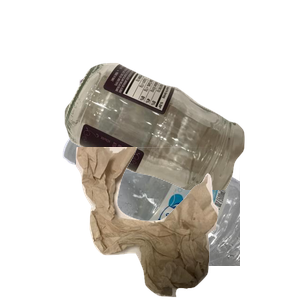glass: (62, 60, 300, 240)
metal: (77, 61, 222, 191)
plastic: (60, 120, 300, 300)
trash: (73, 147, 300, 300)
